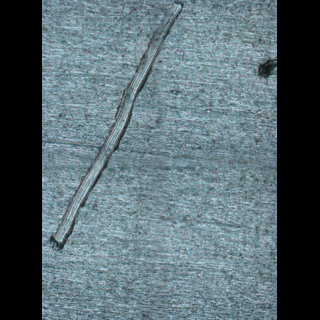d: (49, 0, 186, 253)
